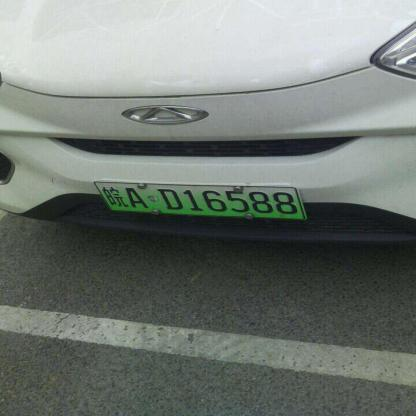lp: (92, 181, 307, 220)
